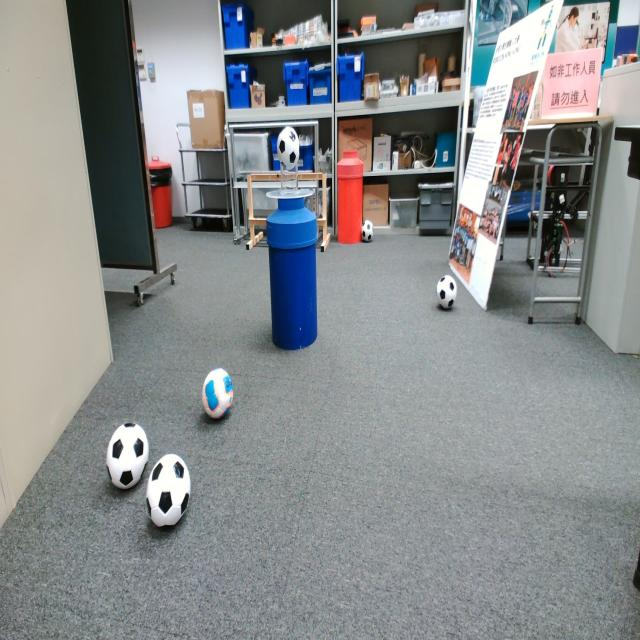ball: (144, 453, 192, 534), (104, 419, 150, 495), (201, 366, 234, 422), (276, 125, 301, 175), (434, 273, 458, 313), (360, 218, 374, 243)
